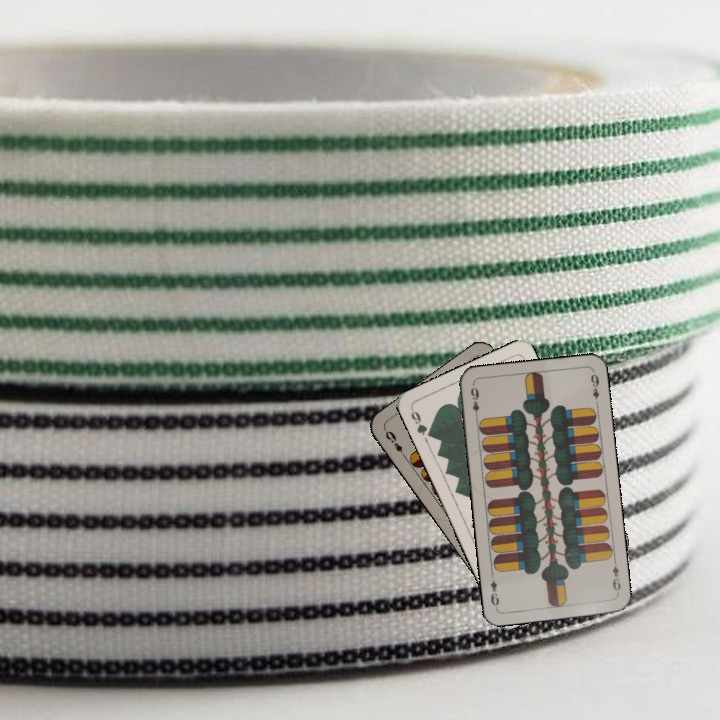E9: (381, 426, 409, 461), (466, 381, 482, 422), (608, 556, 623, 597)
G9: (407, 405, 436, 440)
